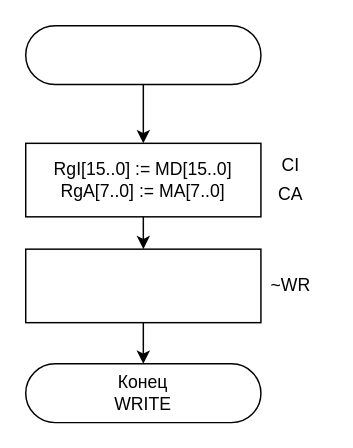
The diagram is 353 pixels wide and 448 high, and some of its shapes have lost their labels. Here are the shapes that lost their labels. From the top down, the centre of each, then its label:
(x=142, y=54): Начало WRITE
(x=142, y=285): AZU[RgA][15..0] := RgI[15..0]
